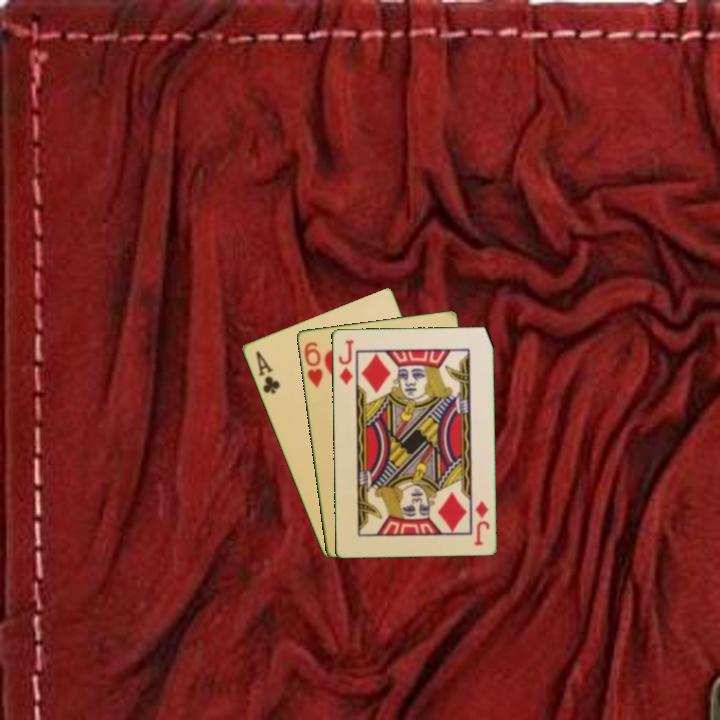6h: (300, 338, 325, 390)
Ac: (252, 347, 283, 396)
Jd: (335, 336, 356, 387), (471, 497, 492, 548)
